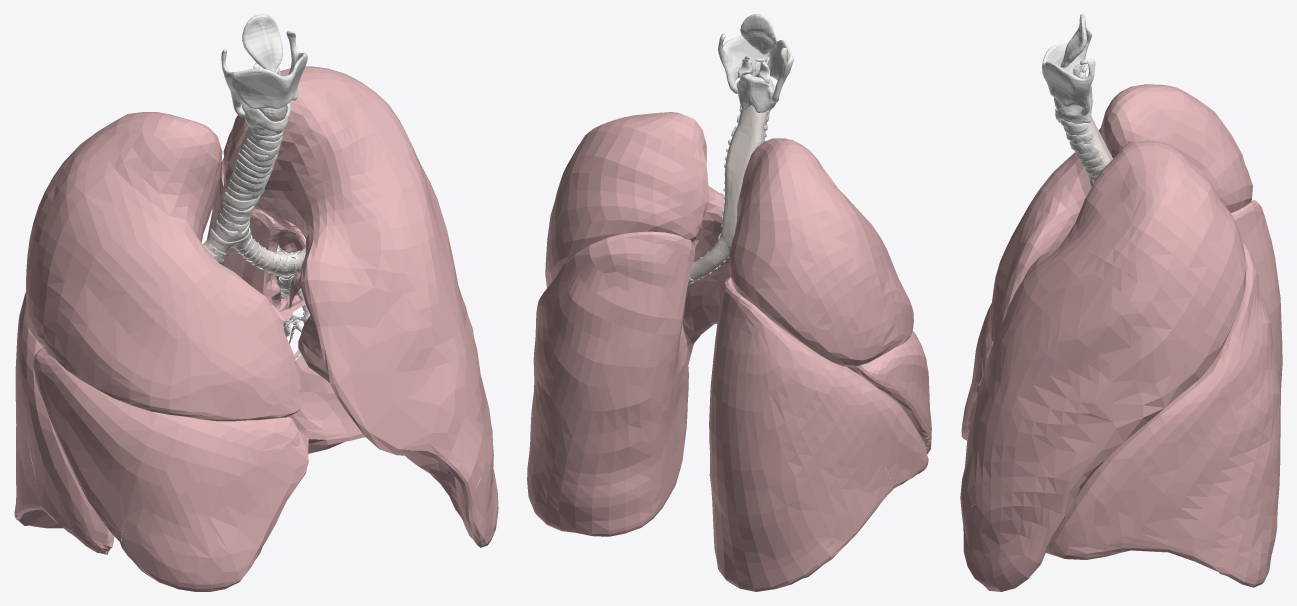
Rendered from lung.glb.
3 renders of one model, left to right at view 1: azimuth 30°, elevation 25°; view 2: azimuth 150°, elevation 25°; view 3: azimuth 270°, elevation 25°, orthographic. The views are drawn at different scales.
Parts seen in each view (by area): view 1: VH_M_right_anterior_bronchopulmonary_segment, VH_M_left_anterior_bronchopulmonary_segment, VH_M_right_medial_bronchopulmonary_segment, VH_M_left_lingula_superior_bronchopulmonary_segment, VH_M_left_apical_bronchopulmonary_segment, VH_M_right_lateral_bronchopulmonary_segment, VH_M_right_apical_bronchopulmonary_segment, VH_M_right_posterior_bronchopulmonary_segment, VH_M_right_anterior_basal_bronchopulmonary_segment, VH_M_left_lingula_inferior_bronchopulmonary_segment, VH_M_left_medial_basal_bronchopulmonary_segment, VH_M_thyroid_cartilage (+10 smaller); view 2: VH_M_left_superior_bronchopulmonary_segment, VH_M_right_posterior_bronchopulmonary_segment, VH_M_right_superior_bronchopulmonary_segment, VH_M_left_posetrior_basal_bronchopulmonary_segment, VH_M_left_posterior_bronchopulmonary_segment, VH_M_right_posterior_basal_bronchopulmonary_segment, VH_M_right_lateral_basal_bronchopulmonary_segment, VH_M_left_apical_bronchopulmonary_segment, VH_M_right_anterior_basal_bronchopulmonary_segment, VH_M_right_lateral_bronchopulmonary_segment, VH_M_trachea, VH_M_right_anterior_bronchopulmonary_segment (+8 smaller); view 3: VH_M_left_anterior_bronchopulmonary_segment, VH_M_left_posterior_bronchopulmonary_segment, VH_M_left_lateral_basal_bronchopulmonary_segment, VH_M_left_anterior_basal_bronchopulmonary_segment, VH_M_left_lingula_superior_bronchopulmonary_segment, VH_M_left_apical_bronchopulmonary_segment, VH_M_left_lingula_inferior_bronchopulmonary_segment, VH_M_left_superior_bronchopulmonary_segment, VH_M_right_anterior_bronchopulmonary_segment, VH_M_right_posterior_bronchopulmonary_segment, VH_M_right_apical_bronchopulmonary_segment, VH_M_left_posetrior_basal_bronchopulmonary_segment (+8 smaller).
Boxes of the visible parts, <box> form: VH_M_right_anterior_bronchopulmonary_segment: <box>43,161,302,421</box>; VH_M_left_anterior_bronchopulmonary_segment: <box>296,148,473,372</box>; VH_M_right_medial_bronchopulmonary_segment: <box>120,413,308,591</box>; VH_M_left_lingula_superior_bronchopulmonary_segment: <box>326,336,489,498</box>; VH_M_left_apical_bronchopulmonary_segment: <box>228,66,413,225</box>; VH_M_right_lateral_bronchopulmonary_segment: <box>33,348,157,542</box>; VH_M_right_apical_bronchopulmonary_segment: <box>115,112,222,242</box>; VH_M_right_posterior_bronchopulmonary_segment: <box>26,115,125,352</box>; VH_M_right_anterior_basal_bronchopulmonary_segment: <box>18,340,114,554</box>; VH_M_left_lingula_inferior_bronchopulmonary_segment: <box>298,315,498,547</box>; VH_M_left_medial_basal_bronchopulmonary_segment: <box>288,349,364,444</box>; VH_M_thyroid_cartilage: <box>221,30,307,116</box>; VH_M_left_superior_bronchopulmonary_segment: <box>538,231,695,434</box>; VH_M_right_posterior_bronchopulmonary_segment: <box>728,171,891,366</box>; VH_M_right_superior_bronchopulmonary_segment: <box>709,277,852,491</box>; VH_M_left_posetrior_basal_bronchopulmonary_segment: <box>527,357,688,536</box>; VH_M_left_posterior_bronchopulmonary_segment: <box>546,137,706,281</box>; VH_M_right_posterior_basal_bronchopulmonary_segment: <box>709,455,831,591</box>; VH_M_right_lateral_basal_bronchopulmonary_segment: <box>795,405,893,558</box>; VH_M_left_apical_bronchopulmonary_segment: <box>582,112,708,200</box>; VH_M_right_anterior_basal_bronchopulmonary_segment: <box>846,366,928,488</box>; VH_M_right_lateral_bronchopulmonary_segment: <box>847,331,931,442</box>; VH_M_trachea: <box>721,56,773,252</box>; VH_M_right_anterior_bronchopulmonary_segment: <box>831,179,913,349</box>; VH_M_left_anterior_bronchopulmonary_segment: <box>985,222,1213,424</box>; VH_M_left_posterior_bronchopulmonary_segment: <box>1137,171,1246,361</box>; VH_M_left_lateral_basal_bronchopulmonary_segment: <box>1131,404,1270,576</box>; VH_M_left_anterior_basal_bronchopulmonary_segment: <box>1046,371,1230,559</box>; VH_M_left_lingula_superior_bronchopulmonary_segment: <box>960,365,1210,514</box>; VH_M_left_apical_bronchopulmonary_segment: <box>1076,140,1201,281</box>; VH_M_left_lingula_inferior_bronchopulmonary_segment: <box>962,479,1087,591</box>; VH_M_left_superior_bronchopulmonary_segment: <box>1210,242,1280,447</box>; VH_M_right_anterior_bronchopulmonary_segment: <box>989,128,1100,342</box>; VH_M_right_posterior_bronchopulmonary_segment: <box>1168,88,1252,212</box>; VH_M_right_apical_bronchopulmonary_segment: <box>1090,84,1184,186</box>; VH_M_left_posetrior_basal_bronchopulmonary_segment: <box>1228,440,1280,587</box>.
Size of the model in its own units: 0.2743 by 0.3669 by 0.2063.
